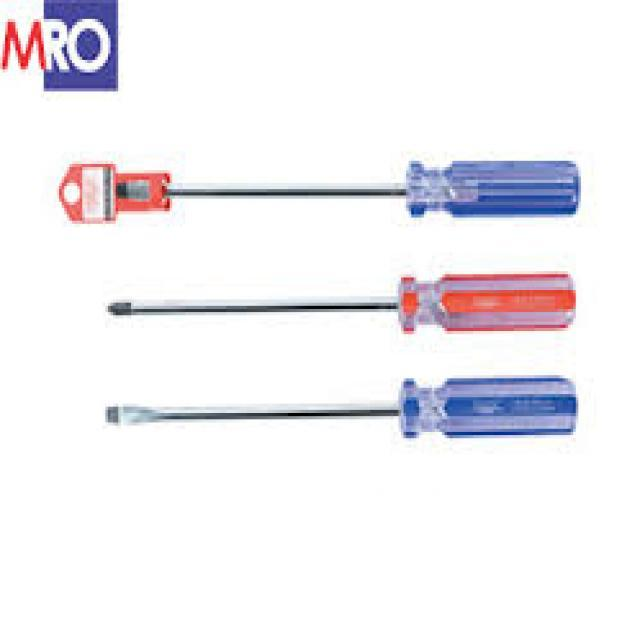screwdriver: (101, 268, 580, 331), (102, 374, 584, 436), (113, 156, 584, 219)
